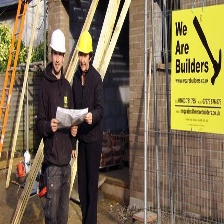helmet: (49, 26, 68, 57), (76, 27, 95, 57)
no-vest: (41, 73, 72, 167), (74, 67, 103, 147)
person: (41, 25, 78, 224), (71, 28, 105, 224)
